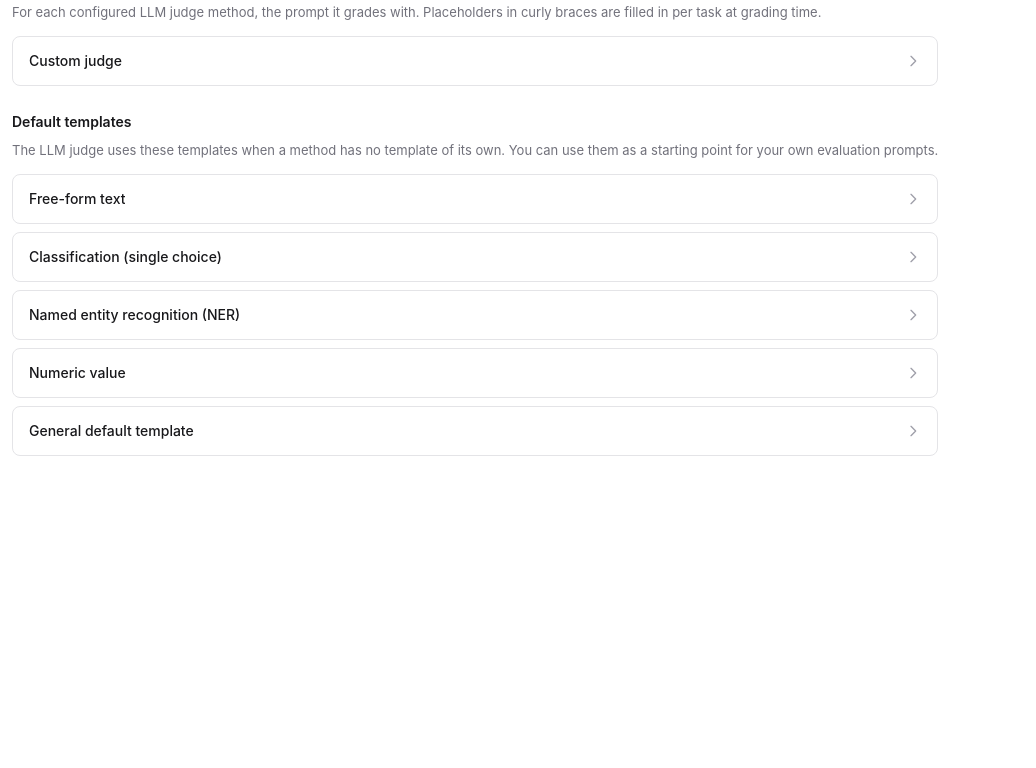
Scenario: EvaluationPromptsOverview › shows system prompt and custom template of a custom judge
Click the button "Custom judge" at point(75, 60), box [13,37,937,85]
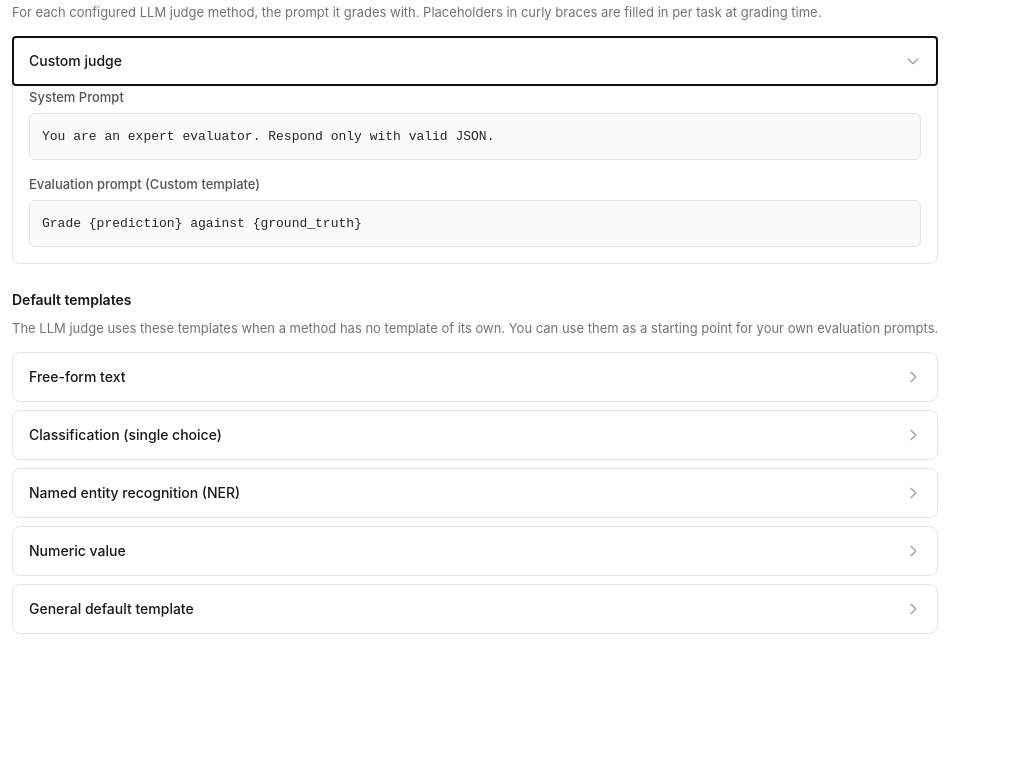
expect the text "You are an expert evaluator. Respond only with valid JSON." is shown: met, box [29,113,921,160]
expect the text "Evaluation prompt (Custom template)" is shown: met, box [29,176,260,192]
expect the text "Grade {prediction} against {ground_truth}" is shown: met, box [29,200,921,247]
